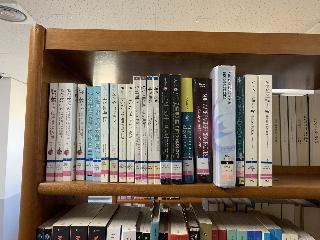book-spine: (216, 66, 235, 188), (193, 78, 213, 183), (180, 77, 194, 183), (245, 74, 258, 186), (260, 74, 273, 186), (170, 74, 182, 185), (160, 74, 171, 184), (46, 83, 58, 181), (54, 83, 66, 181), (236, 76, 245, 187), (62, 83, 72, 182), (76, 84, 85, 181), (133, 76, 141, 184), (110, 83, 118, 183), (100, 83, 108, 182), (93, 86, 101, 181), (147, 77, 154, 184), (86, 87, 94, 180), (127, 84, 134, 183), (119, 84, 126, 182), (141, 76, 147, 184), (153, 77, 159, 184)
